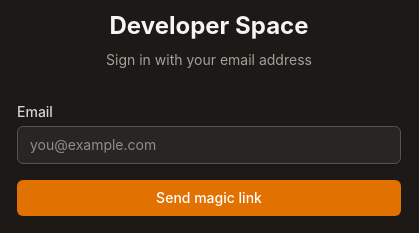
Test: LoginPage › allows returning to email form from confirmation
The width and height of the screenshot is (419, 233).
Type "test@example.com" into the field labelled "Email" at [209, 145], box [17, 126, 401, 164]
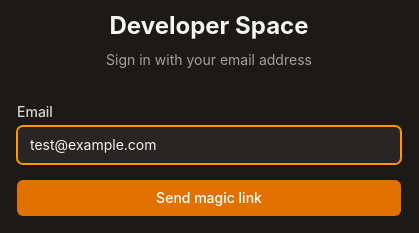
Click the button "Send magic link" at [209, 198], box [17, 180, 401, 216]
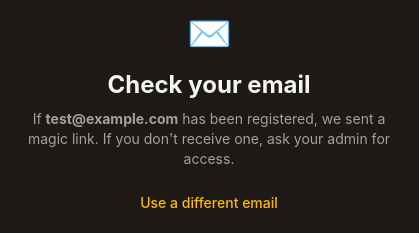
Result: the heading "Check your email" is shown at [108, 70, 310, 98]
Click the button "Use a different email" at [209, 202], box [140, 192, 278, 212]
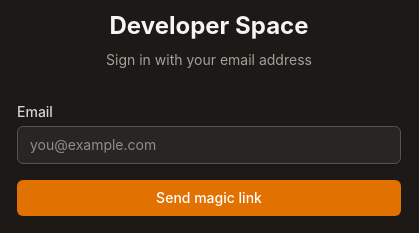
Result: the field labelled "Email" is shown at [17, 126, 401, 164]
